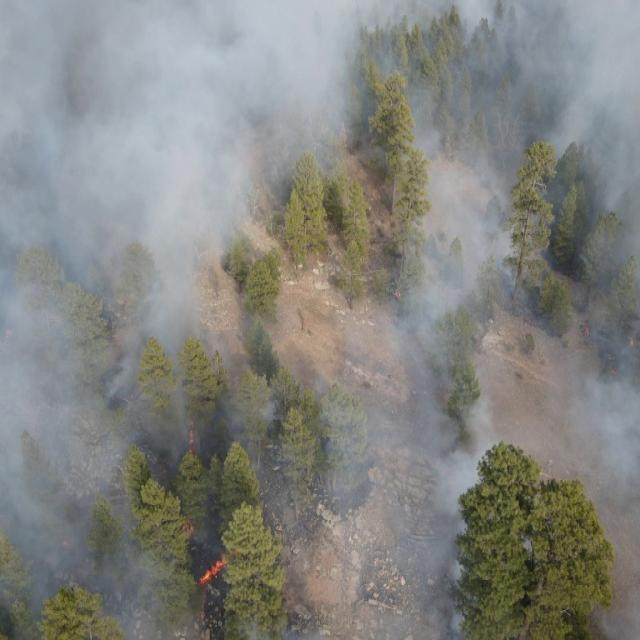fire: (170, 518, 262, 602), (180, 406, 203, 476), (47, 530, 86, 560), (385, 279, 410, 306), (576, 316, 598, 345), (605, 364, 624, 384), (623, 334, 640, 354)
smoke: (0, 2, 640, 216), (0, 217, 281, 640), (319, 215, 640, 379), (283, 371, 461, 640), (463, 379, 640, 487), (588, 489, 640, 640), (522, 537, 534, 557)
